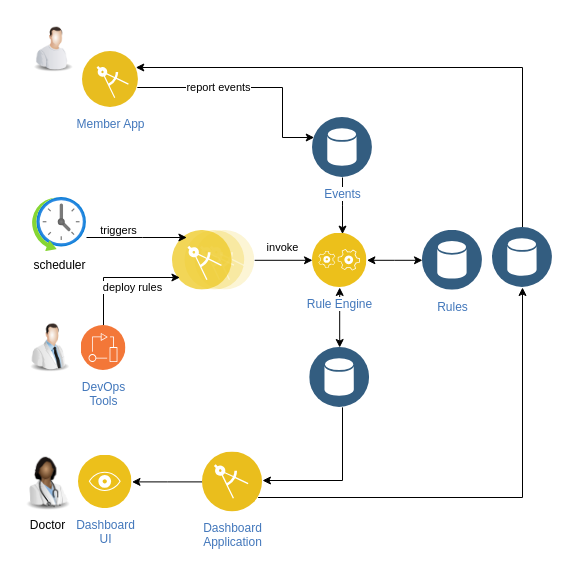
Image size: 569x568. Some labels were removed from this diagram. The centre of each missing label's shape, as x and y in pixels:
Alerts: [339,377]
Member: [53,47]
Rule Developer: [49,347]
Rule Service: [213,260]
Users: [522,257]
